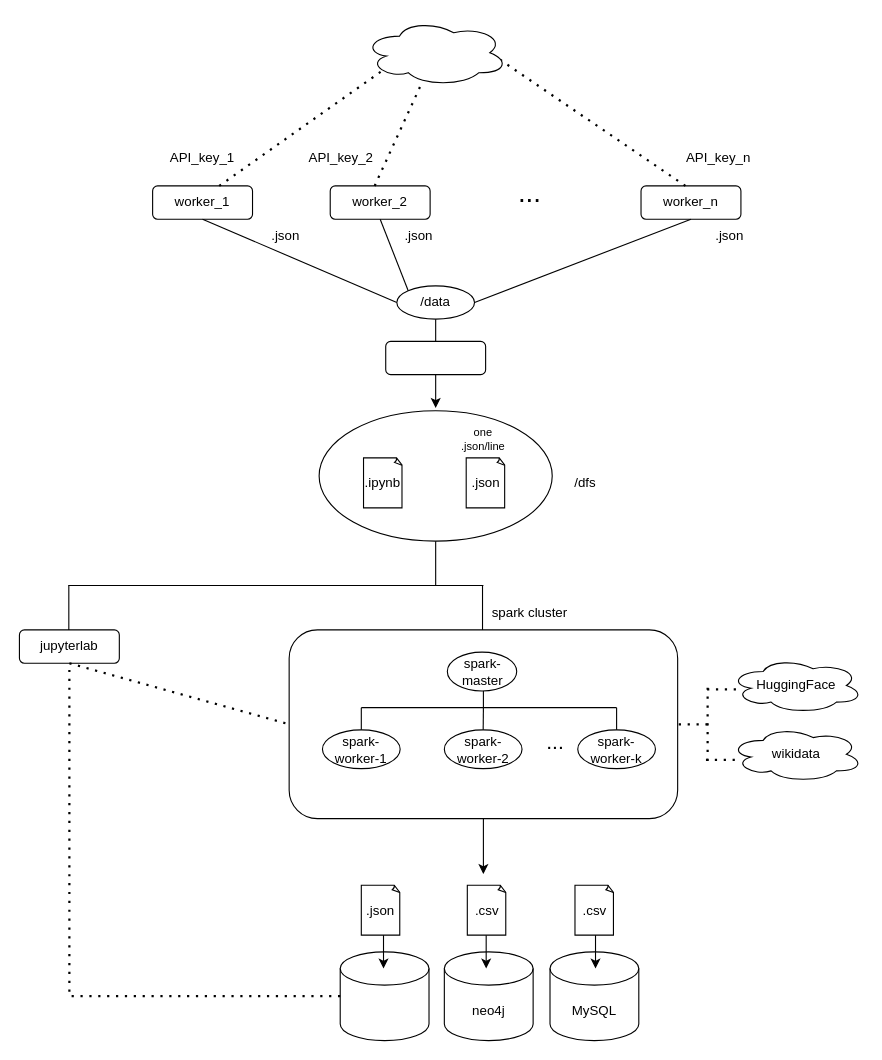
Image size: 882x1060. Some labels were removed from this diagram. Each missing label, with the box of its shape:
CoreAPI: (362, 18, 508, 86)
Elasticseach: (339, 951, 429, 1041)
merger: (385, 340, 486, 375)
